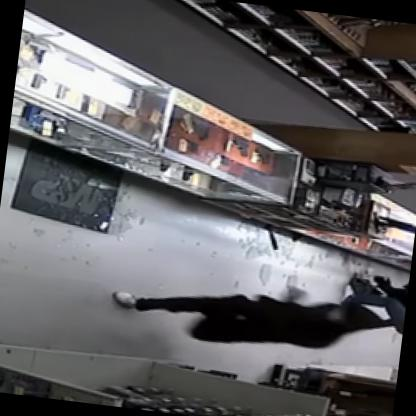Human Body: (96, 267, 386, 369)
